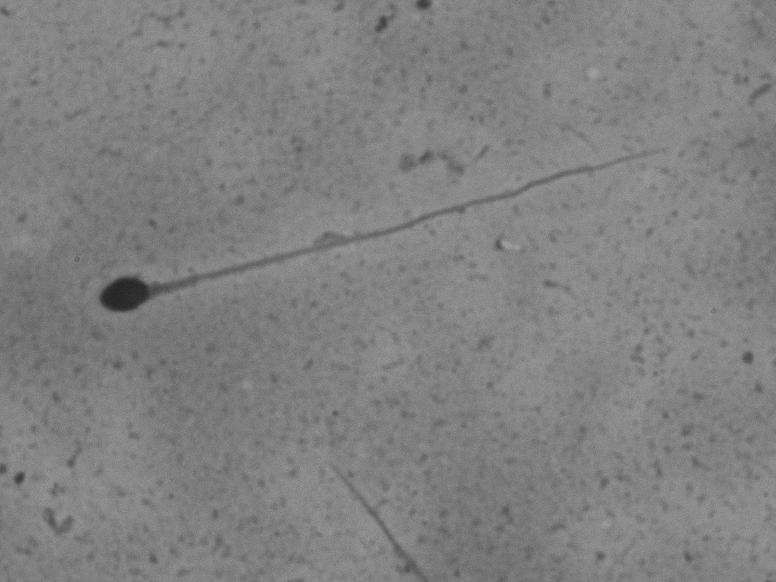Abnormal: (81, 118, 676, 356)
